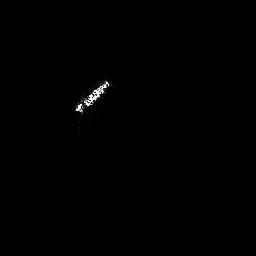ship: (71, 77, 116, 115)
